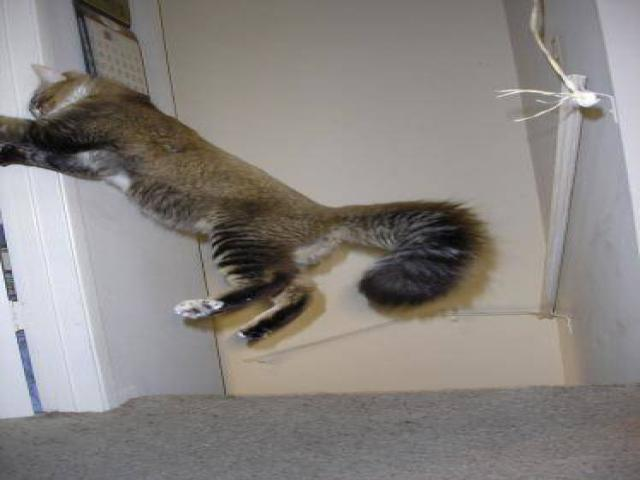cat: (1, 58, 503, 385)
